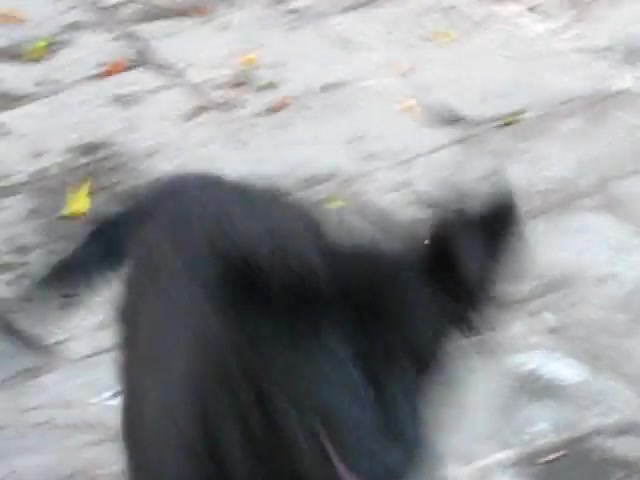dog: (38, 176, 520, 480)
